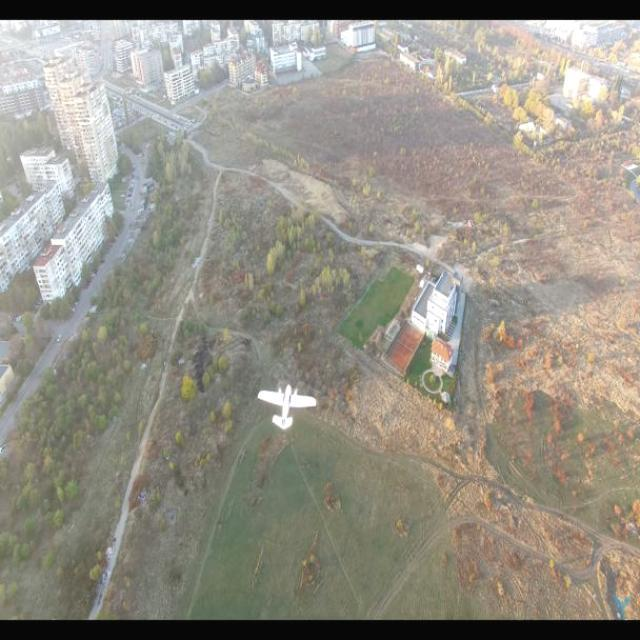iha: (257, 381, 316, 429)
